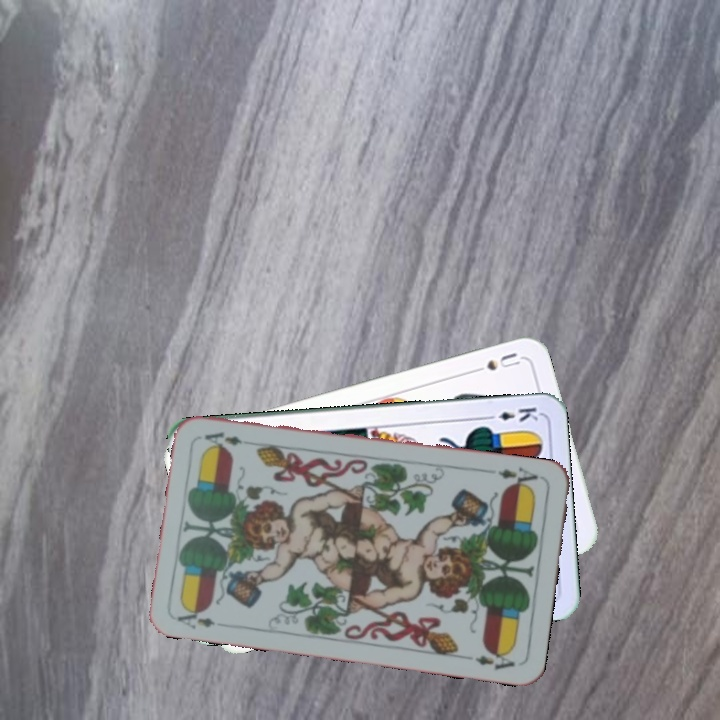EA: (494, 463, 545, 492), (173, 603, 217, 632)
EK: (481, 403, 541, 425)
SU: (465, 348, 523, 377)
